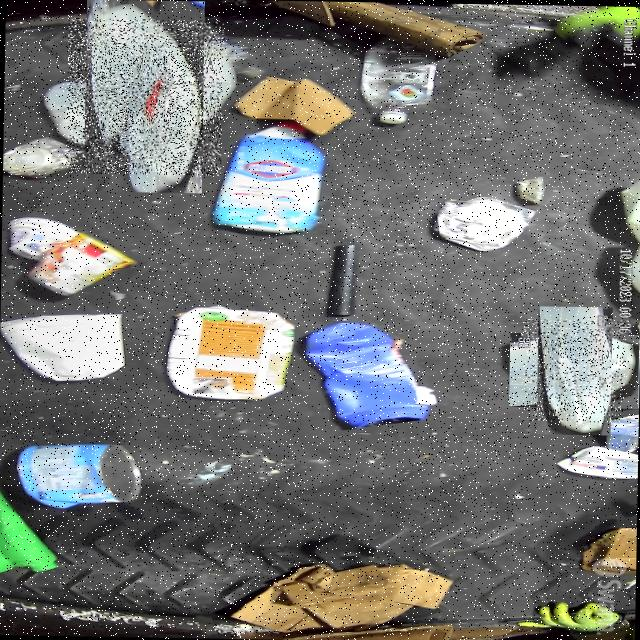milk-jug: (65, 17, 224, 175), (522, 318, 625, 422)
